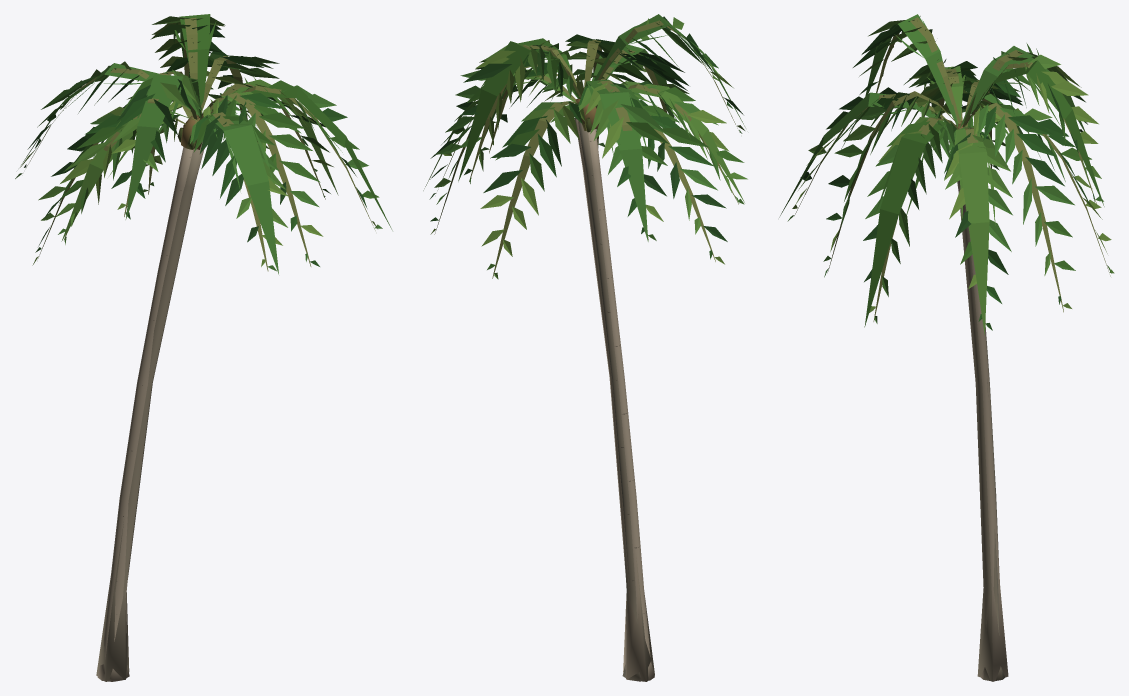
Rendered from sg-coconut-palm.glb.
The picture shows the model from 3 angles, left to right: view 1: azimuth 30°, elevation 25°; view 2: azimuth 150°, elevation 25°; view 3: azimuth 270°, elevation 25°; orthographic projection. The views are drawn at different scales.
Parts seen in each view (by area): view 1: lod0_fronds, lod1_fronds, lod1_trunk, lod0_trunk; view 2: lod0_fronds, lod1_fronds, lod0_trunk, lod1_trunk; view 3: lod0_fronds, lod1_fronds, lod1_trunk, lod0_trunk.
Boxes of the visible parts, box(x1,y1,x2,y2) form: lod0_fronds: box(15, 16, 382, 271); lod1_fronds: box(20, 14, 392, 274); lod1_trunk: box(96, 142, 204, 681); lod0_trunk: box(97, 147, 192, 681); lod0_fronds: box(429, 16, 747, 279); lod1_fronds: box(423, 14, 745, 241); lod0_trunk: box(578, 121, 654, 681); lod1_trunk: box(574, 118, 654, 681); lod0_fronds: box(787, 16, 1114, 330); lod1_fronds: box(779, 14, 1104, 334); lod1_trunk: box(957, 180, 1008, 681); lod0_trunk: box(981, 327, 1004, 680).
Size of the model in its own units: 6.39 by 12.5 by 5.77.
